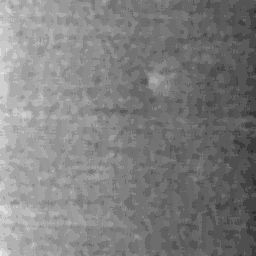dent: (136, 69, 175, 99)
